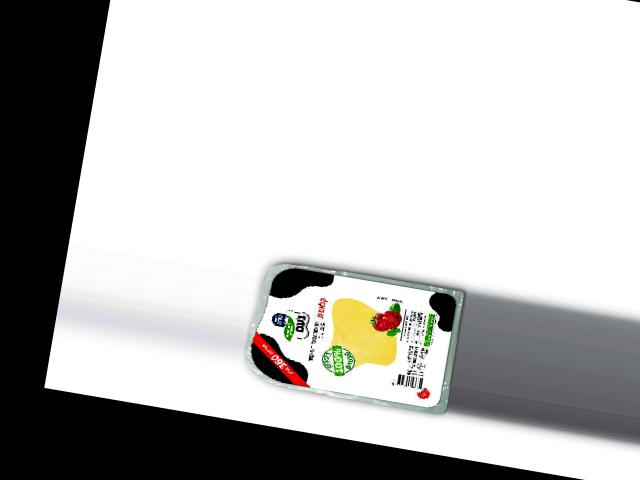cheese: (238, 256, 466, 415)
